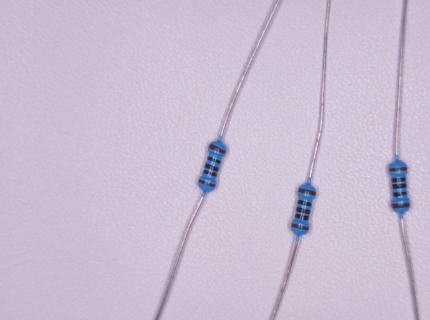Black band: (205, 163, 219, 172), (207, 156, 221, 164), (203, 170, 217, 177), (296, 207, 310, 214), (298, 200, 312, 207), (295, 214, 309, 220), (392, 184, 407, 189), (392, 177, 406, 182), (392, 192, 407, 196)
Brown band: (209, 144, 227, 154), (298, 188, 316, 196), (199, 179, 216, 187), (291, 223, 309, 230), (391, 203, 410, 208), (388, 167, 407, 171)
